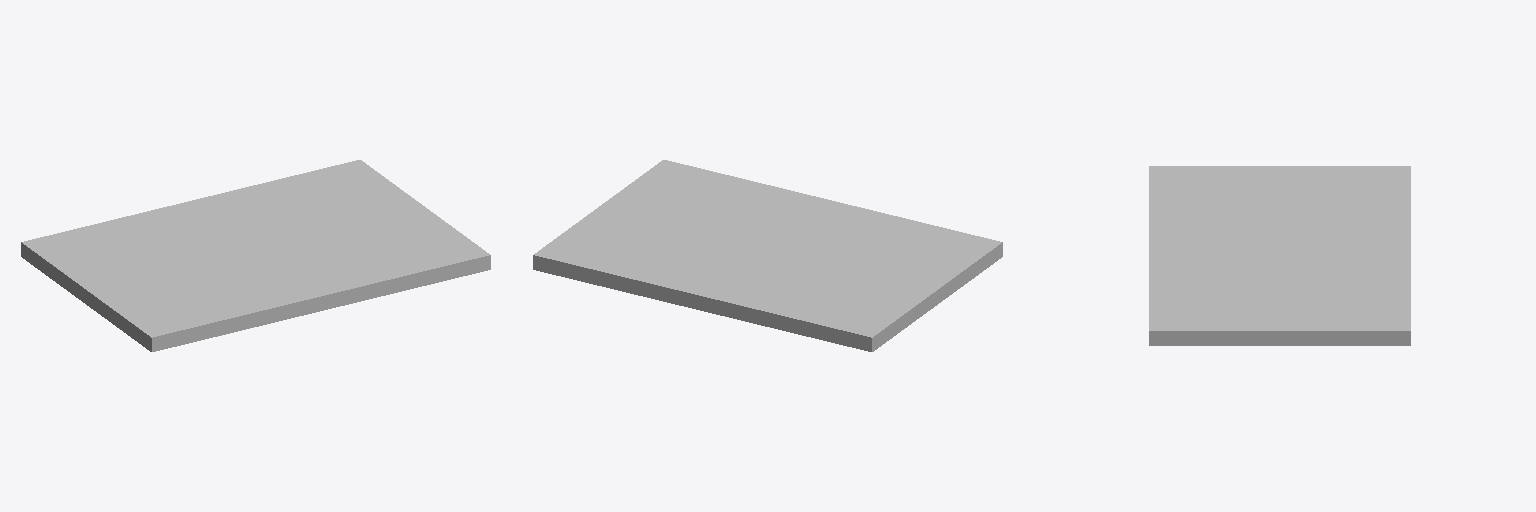
Rendered from Plate2_12x8.obj.
3 renders of one model, left to right at view 1: azimuth 30°, elevation 25°; view 2: azimuth 150°, elevation 25°; view 3: azimuth 270°, elevation 25°, orthographic.
Parts seen in each view (by area): view 1: Plate2_12x8_Cube.313; view 2: Plate2_12x8_Cube.313; view 3: Plate2_12x8_Cube.313.
Part boxes in pixels (x1,y1,x2,y2): Plate2_12x8_Cube.313: (21, 160, 490, 351); Plate2_12x8_Cube.313: (533, 160, 1002, 351); Plate2_12x8_Cube.313: (1149, 166, 1410, 345).
Bounding box in the file's own units: 12 × 0.5 × 8.